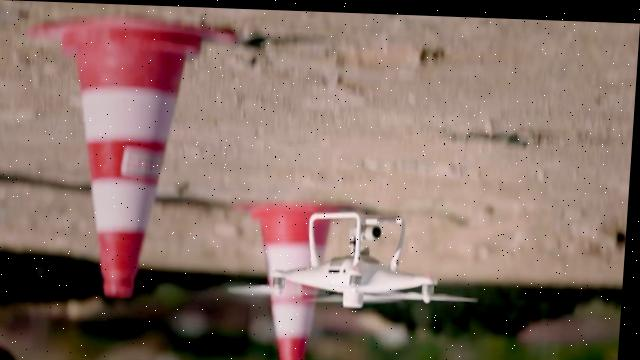drone: (230, 207, 486, 311)
